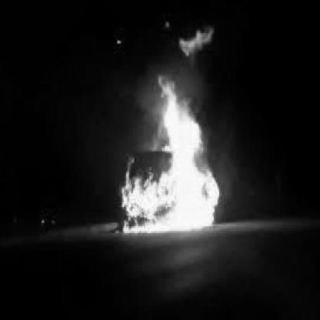Fire: (121, 68, 225, 235), (181, 22, 215, 56)
